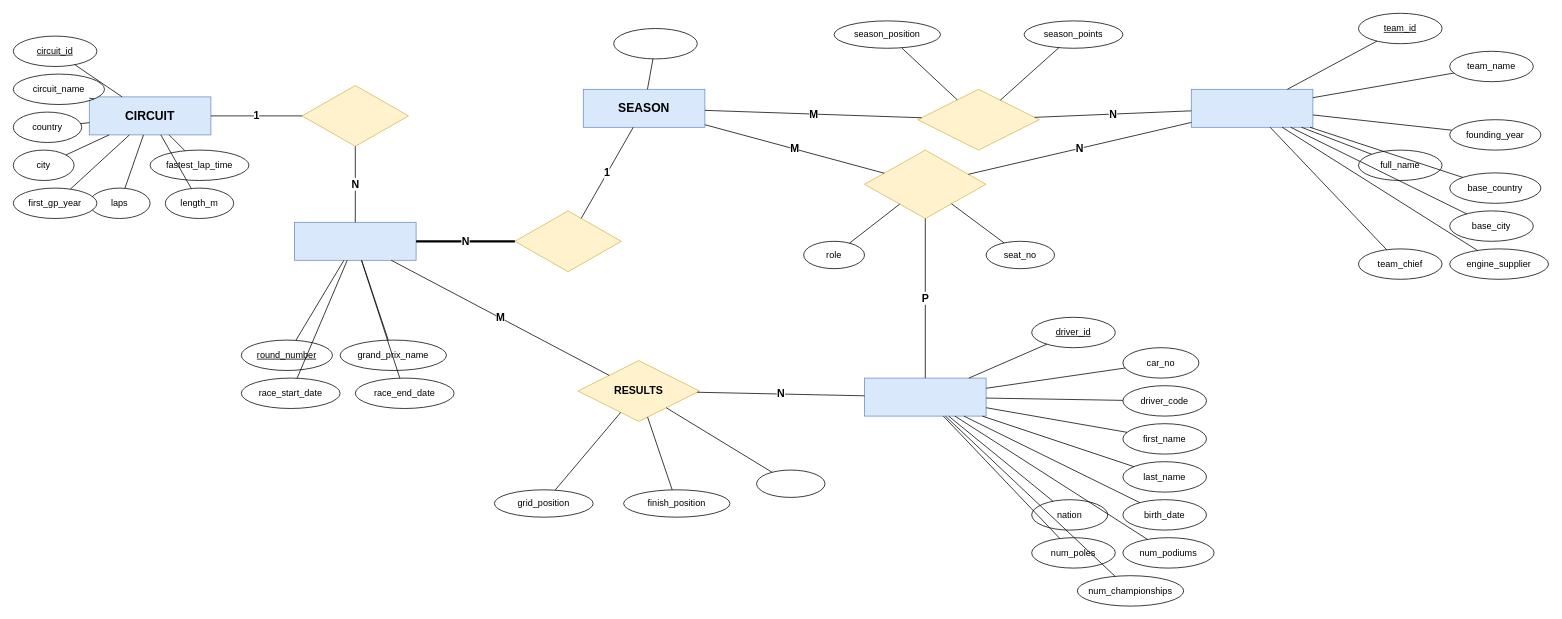
The diagram is 1562 pixels wide and 619 high, and some of its shapes have lost their labels. Here are the shapes that lost their labels. From the top down, the box of each, then its label:
(613, 28, 697, 59): season_year
(301, 85, 408, 146): HOSTS
(917, 89, 1039, 150): STANDINGS
(1191, 89, 1313, 127): TEAM
(864, 149, 986, 218): CONTRACTS
(294, 222, 416, 260): RACE
(514, 210, 621, 272): HAS_RACE
(864, 377, 986, 416): DRIVER
(756, 469, 825, 497): points
